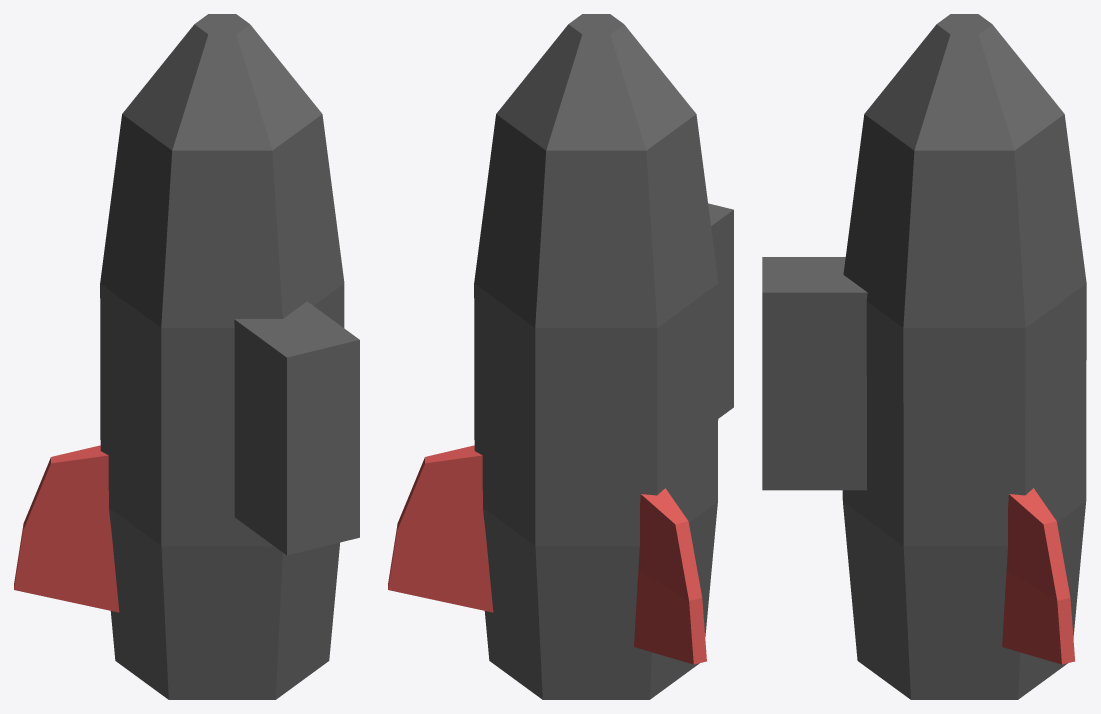
Rendered from uppgrade_thruster1_v1.glb.
3 renders of one model, left to right at view 1: azimuth 30°, elevation 25°; view 2: azimuth 150°, elevation 25°; view 3: azimuth 270°, elevation 25°, orthographic.
Parts seen in each view (by area): view 1: Cylinder; view 2: Cylinder; view 3: Cylinder.
Part boxes in pixels (<box>): Cylinder: <box>14,14,359,699</box>; Cylinder: <box>388,14,733,699</box>; Cylinder: <box>762,14,1086,699</box>.
Size of the model in its own units: 0.746 by 1.42 by 0.6571.
